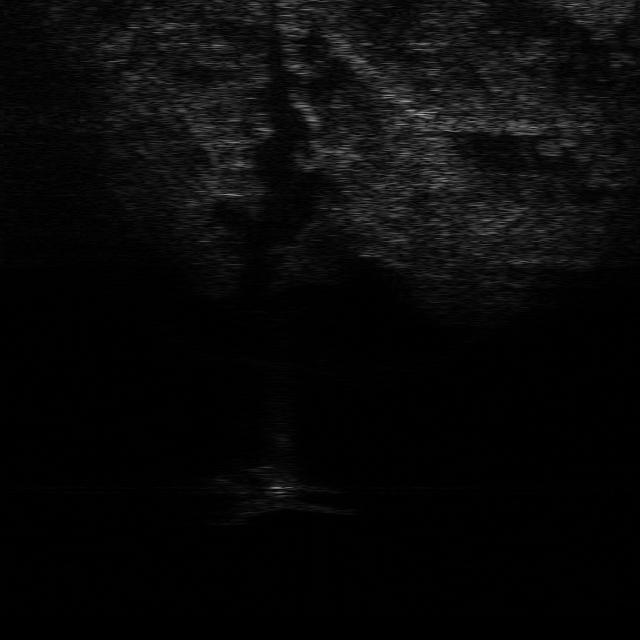plane: (214, 461, 355, 522)
